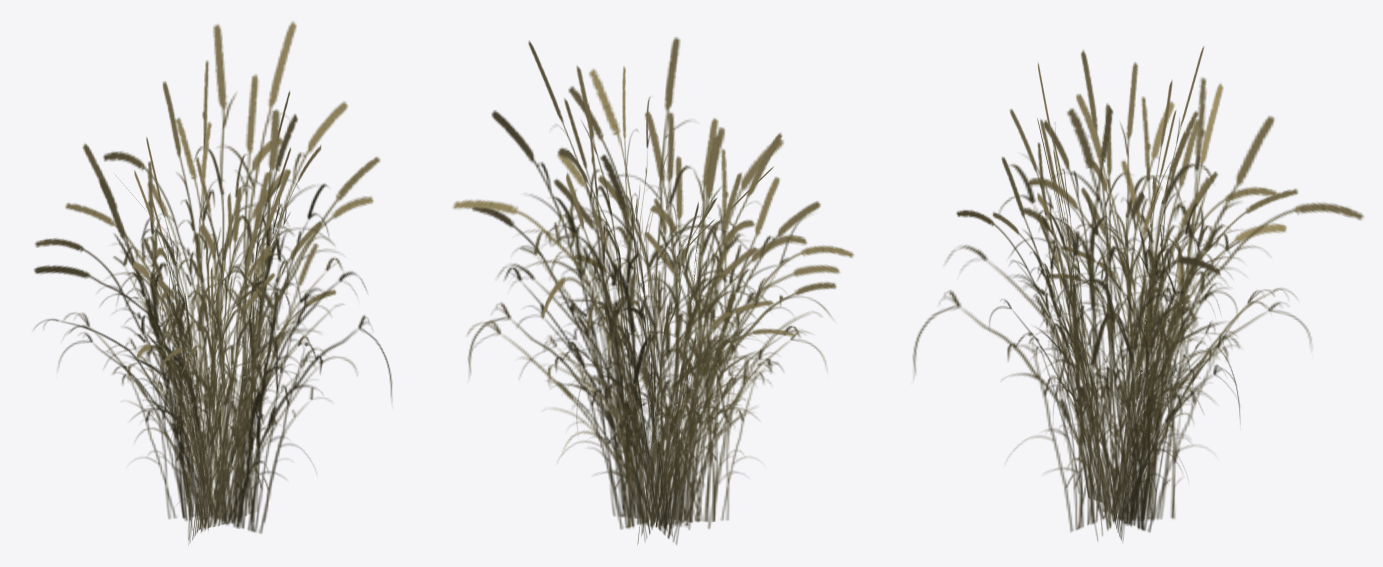
File: ichu_13.glb
3 views of the same model, side by side, from view 1: azimuth 30°, elevation 25°; view 2: azimuth 150°, elevation 25°; view 3: azimuth 270°, elevation 25° (orthographic). The views are drawn at different scales.
Visible parts, largest first — view 1: Ichu; view 2: Ichu; view 3: Ichu.
Part boxes in pixels (<box>): Ichu: <box>34,21,392,544</box>; Ichu: <box>452,37,853,544</box>; Ichu: <box>913,46,1363,542</box>.
Size of the model in its own units: 0.3874 by 0.56 by 0.4687.
Materials: 1 (1 with a texture image).
